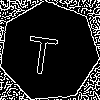T: (24, 26, 61, 76)
